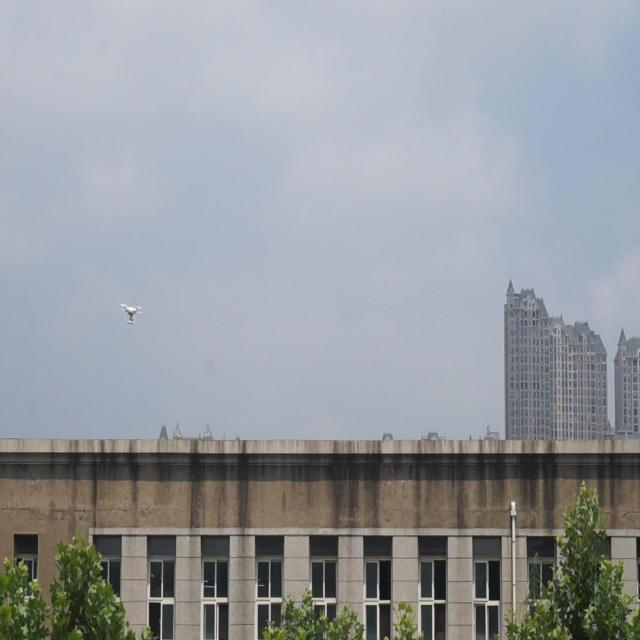UAV: (119, 304, 143, 326)
